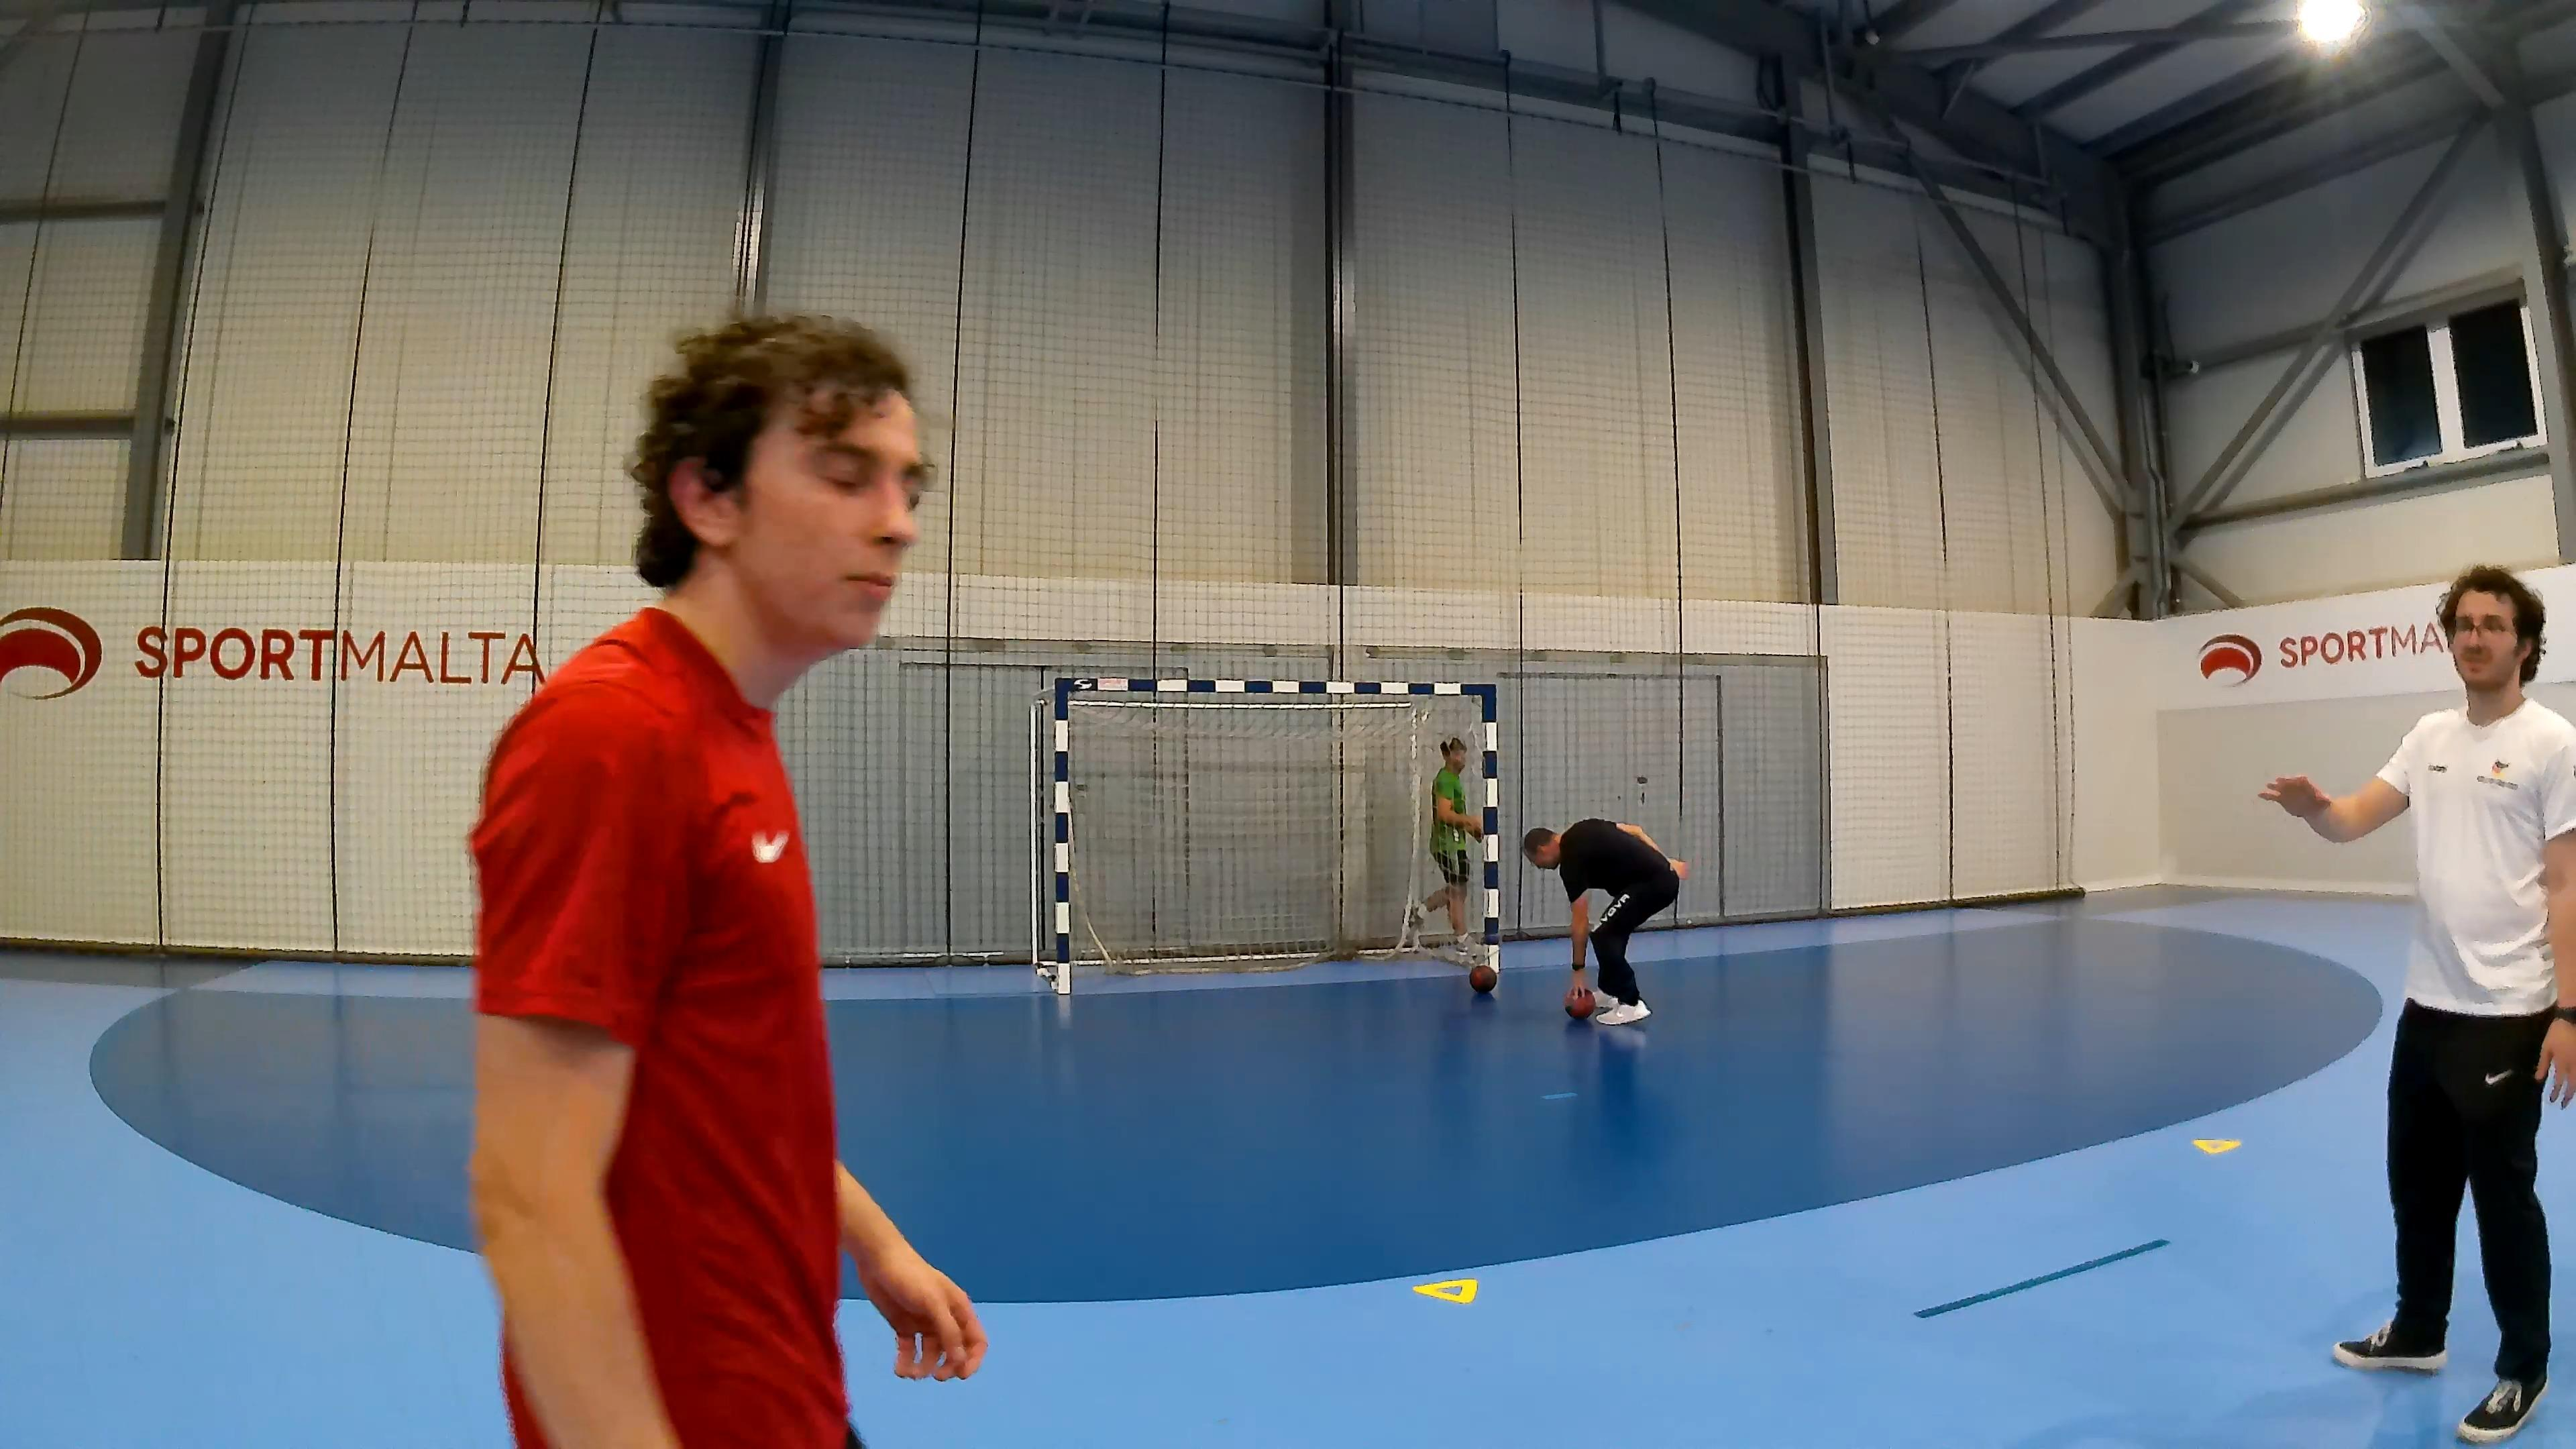handball: (1564, 984, 1596, 1017), (1468, 962, 1497, 993)
